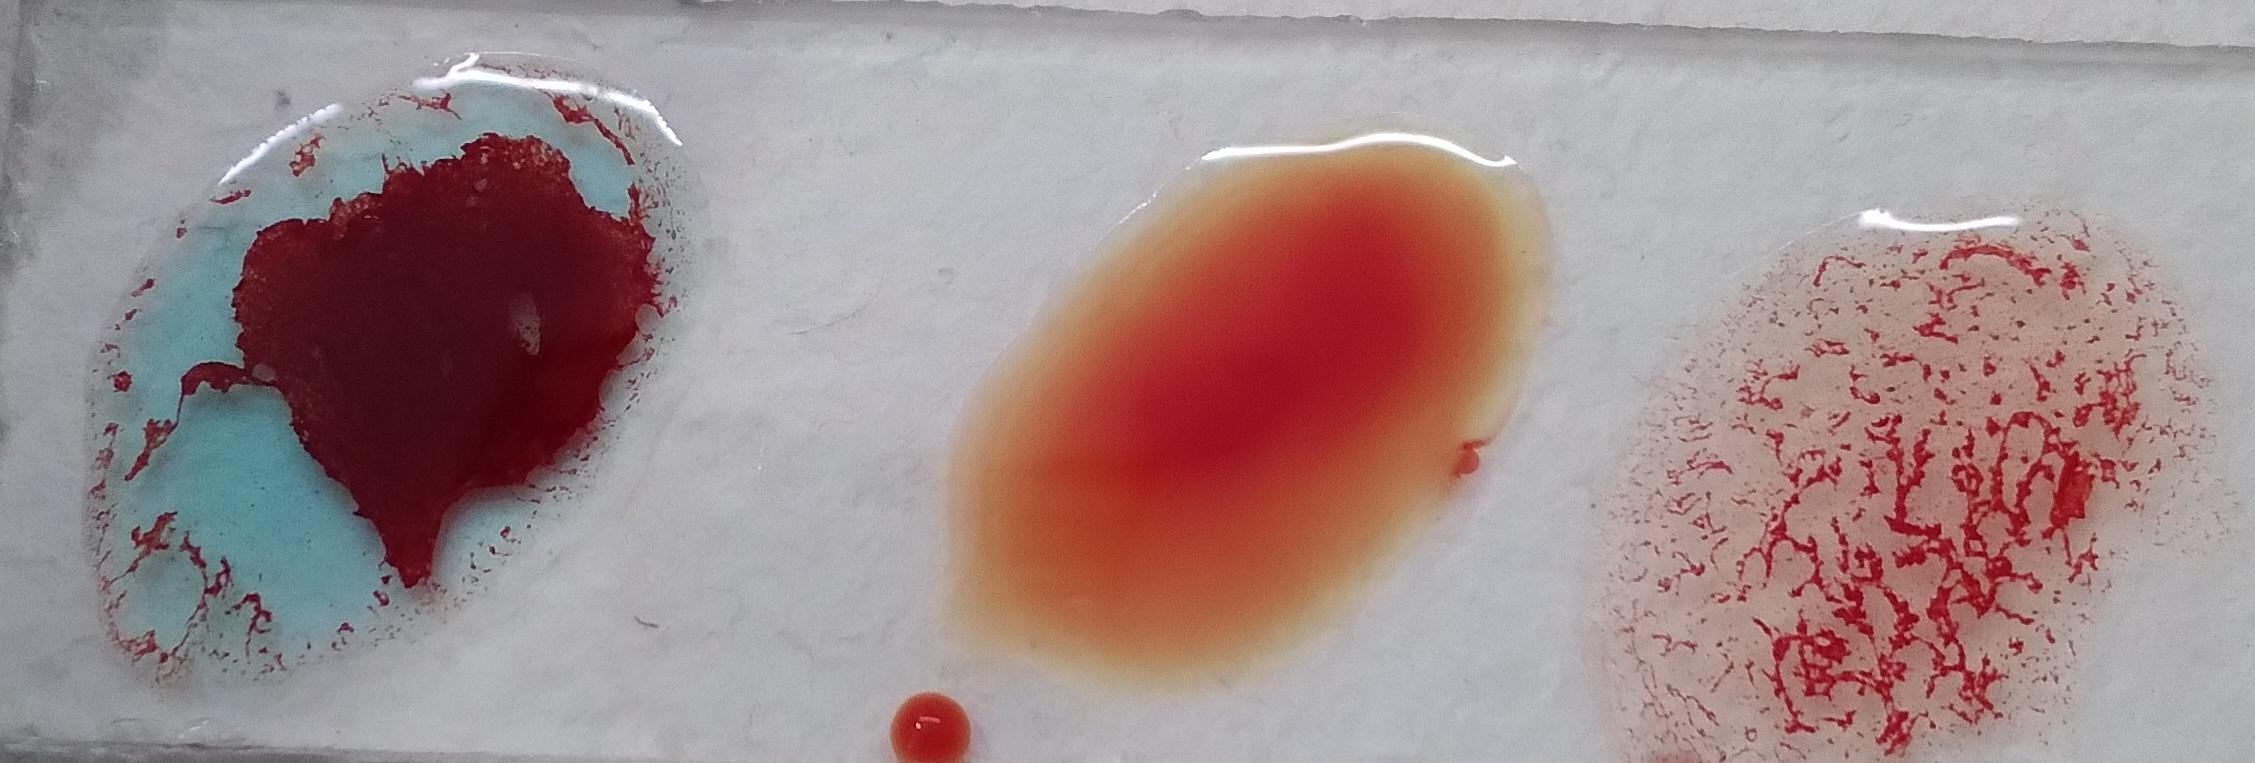A: (1573, 70, 2159, 708)
D: (95, 13, 595, 543)
